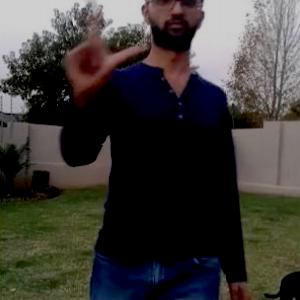land_hand: (55, 0, 148, 110)
